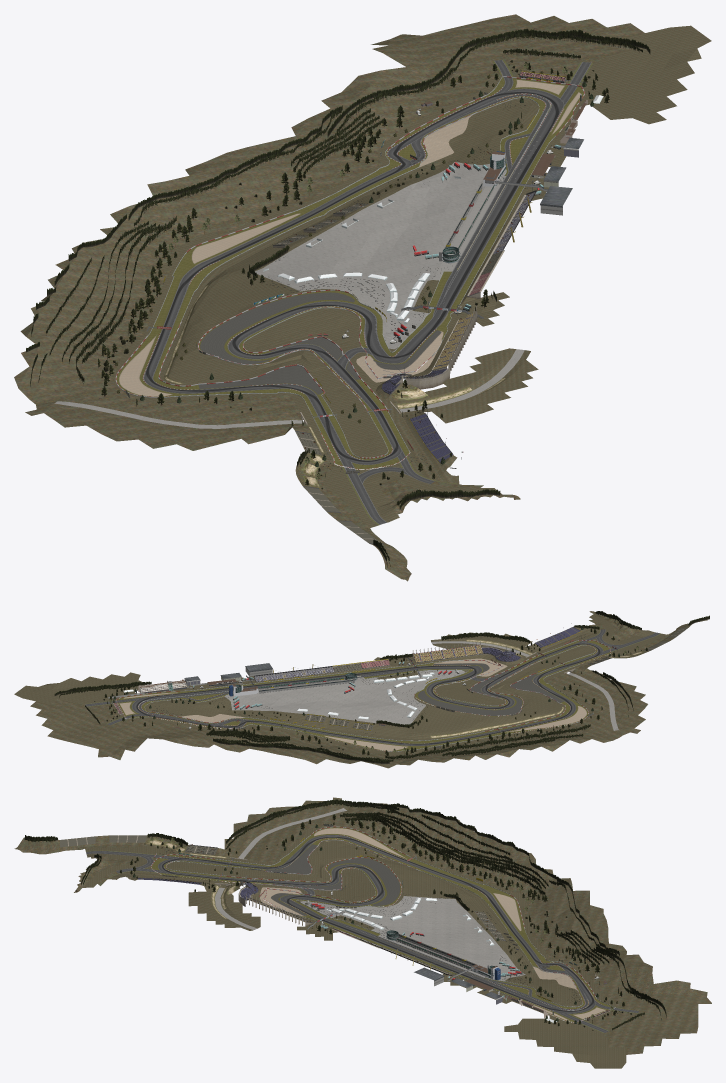
The model's file is nurburgring.glb.
3 views of the same model, one above another, from view 1: azimuth 30°, elevation 25°; view 2: azimuth 150°, elevation 25°; view 3: azimuth 270°, elevation 25° (orthographic). The views are drawn at different scales.
Bounding box in the file's own units: 1470 × 72.46 × 1557.
Materials: 118 (118 with a texture image).
